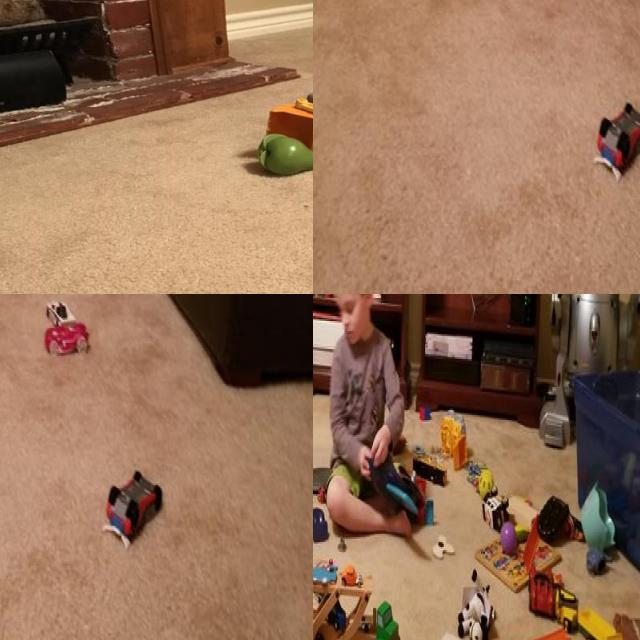toy: (103, 465, 168, 552), (555, 564, 625, 640), (254, 69, 313, 157), (594, 97, 640, 184), (252, 125, 313, 173), (454, 575, 491, 640), (529, 536, 552, 624), (41, 321, 90, 359), (442, 410, 471, 471), (486, 486, 514, 544), (472, 468, 497, 512), (417, 452, 446, 489), (338, 557, 366, 594), (313, 550, 340, 587), (491, 628, 573, 640), (45, 294, 73, 324), (313, 500, 326, 540), (419, 401, 434, 431)
